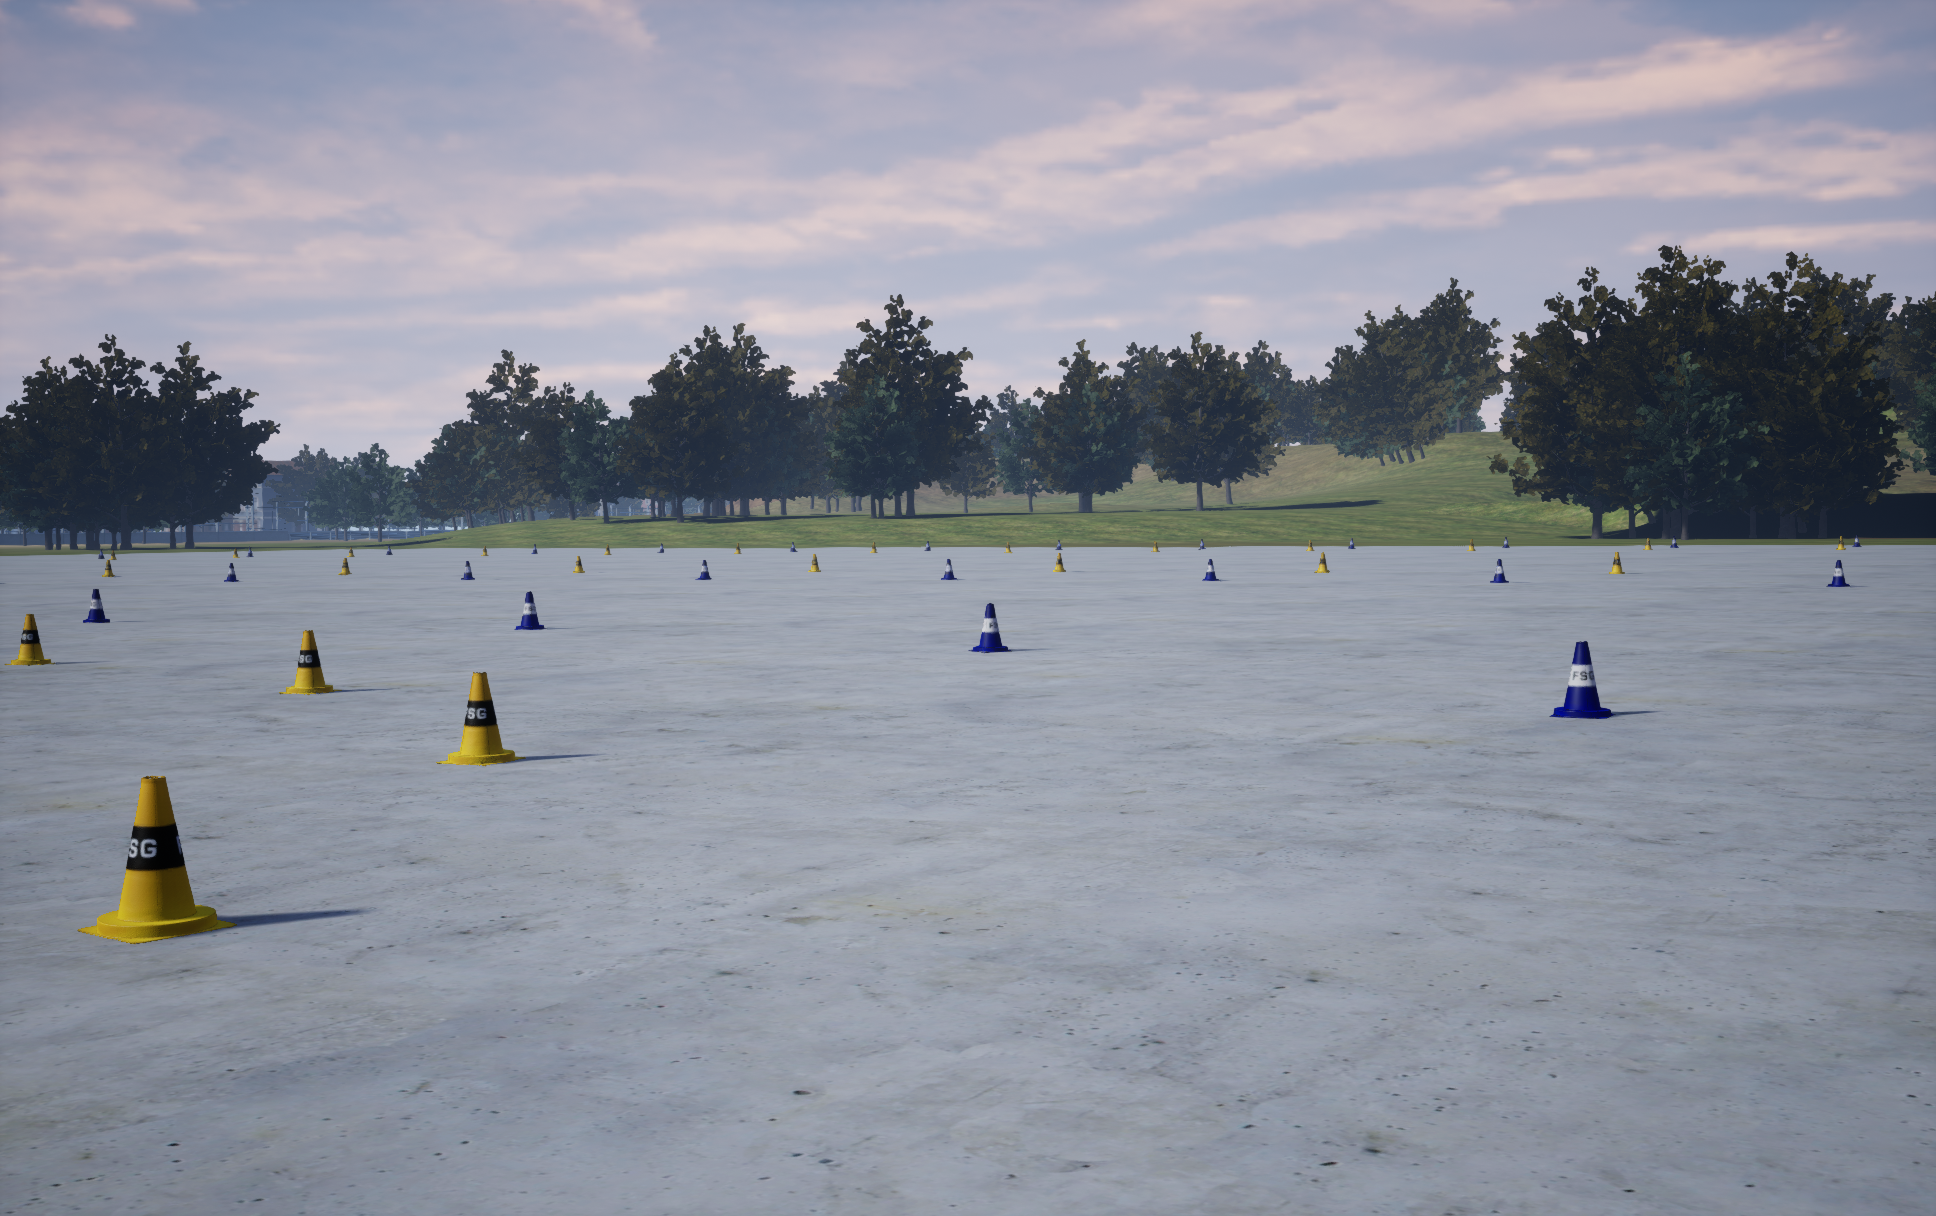blue: (77, 776, 235, 943), (436, 672, 525, 765), (279, 630, 340, 693), (4, 614, 55, 665), (1314, 552, 1329, 572), (1610, 552, 1624, 573), (1053, 553, 1065, 572)
yellow: (1549, 642, 1615, 719), (968, 602, 1011, 651), (514, 591, 546, 629), (83, 588, 109, 622), (1825, 560, 1849, 586), (1491, 559, 1507, 581), (1202, 559, 1219, 580), (695, 560, 712, 579), (941, 559, 955, 579), (224, 563, 238, 581), (461, 560, 473, 579)
